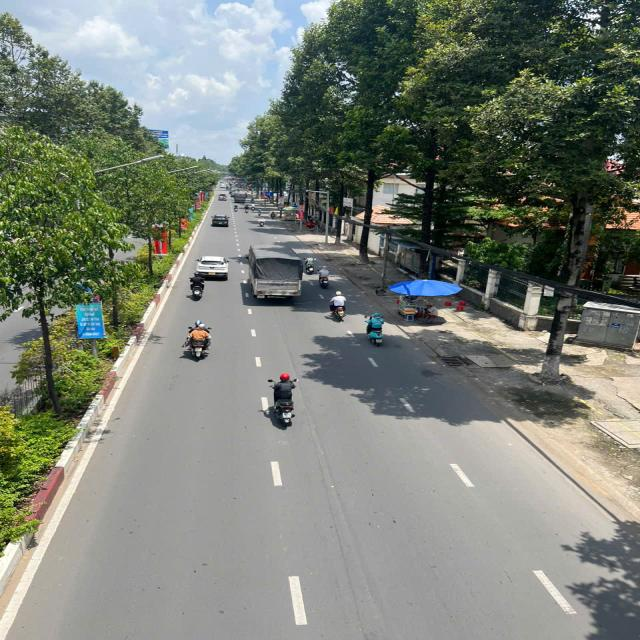ben: (243, 242, 307, 305)
car: (192, 253, 232, 281), (208, 212, 234, 229)
motobyte: (265, 373, 302, 430), (183, 318, 214, 364), (360, 313, 397, 348), (183, 271, 212, 303), (327, 289, 353, 323), (315, 262, 335, 289), (305, 253, 317, 276), (255, 214, 269, 230), (233, 201, 242, 213), (244, 202, 252, 214)
